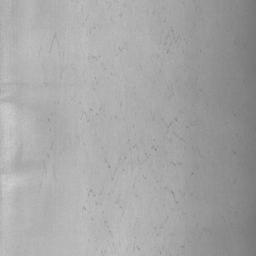Silk spot: (104, 134, 182, 181), (151, 112, 200, 154), (143, 171, 197, 206), (160, 27, 192, 54), (88, 187, 122, 208), (80, 104, 105, 122), (49, 32, 64, 56)
